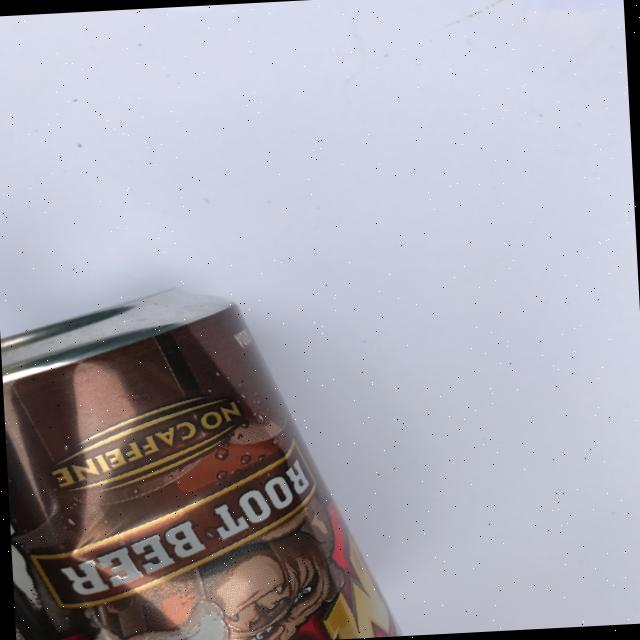metal: (0, 275, 401, 640)
